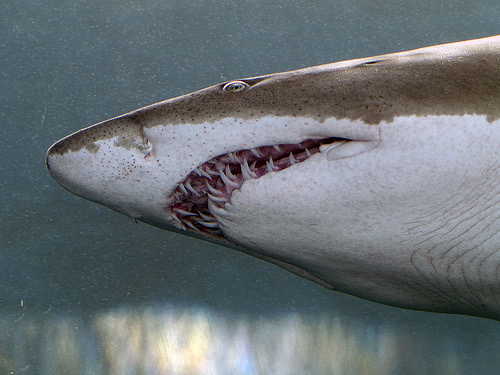shark: (22, 26, 497, 334)
